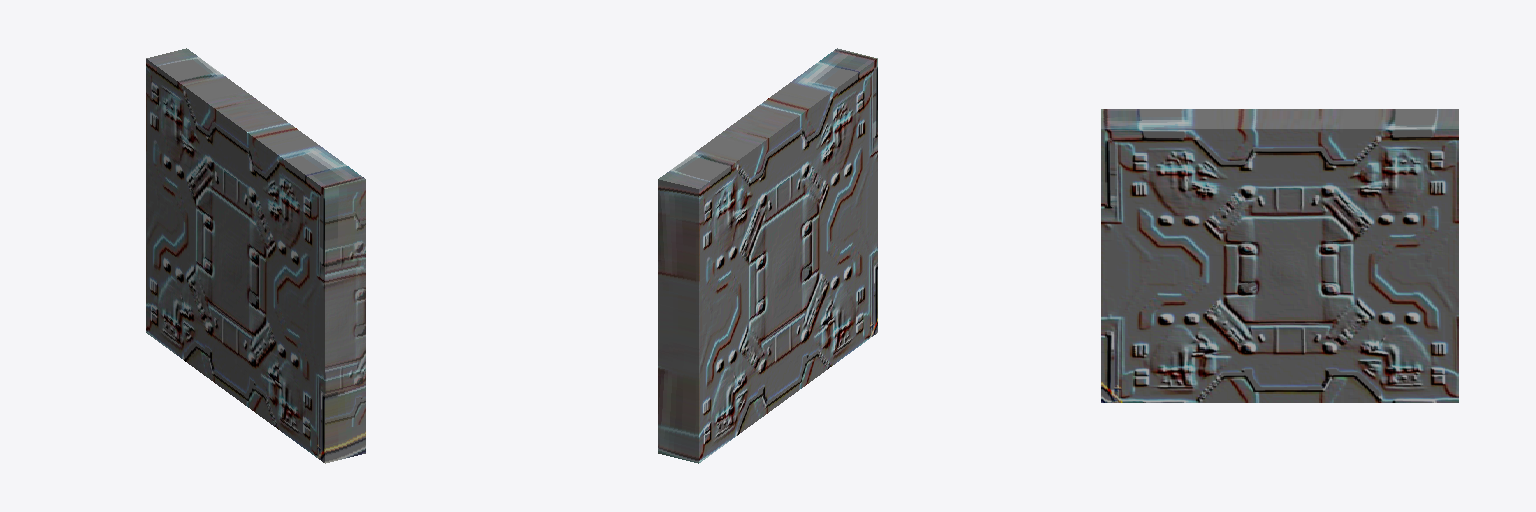
The picture shows the model from 3 angles: view 1: azimuth 30°, elevation 25°; view 2: azimuth 150°, elevation 25°; view 3: azimuth 270°, elevation 25°; orthographic projection.
Visible parts, largest first — view 1: obj1; view 2: obj1; view 3: obj1.
Boxes of the visible parts, x1=… form: obj1: x1=146, y1=48, x2=365, y2=463; obj1: x1=658, y1=48, x2=877, y2=463; obj1: x1=1101, y1=109, x2=1458, y2=402.
Bounding box in the file's own units: 0.0801 × 0.512 × 0.605.
1 materials, 1 textured.